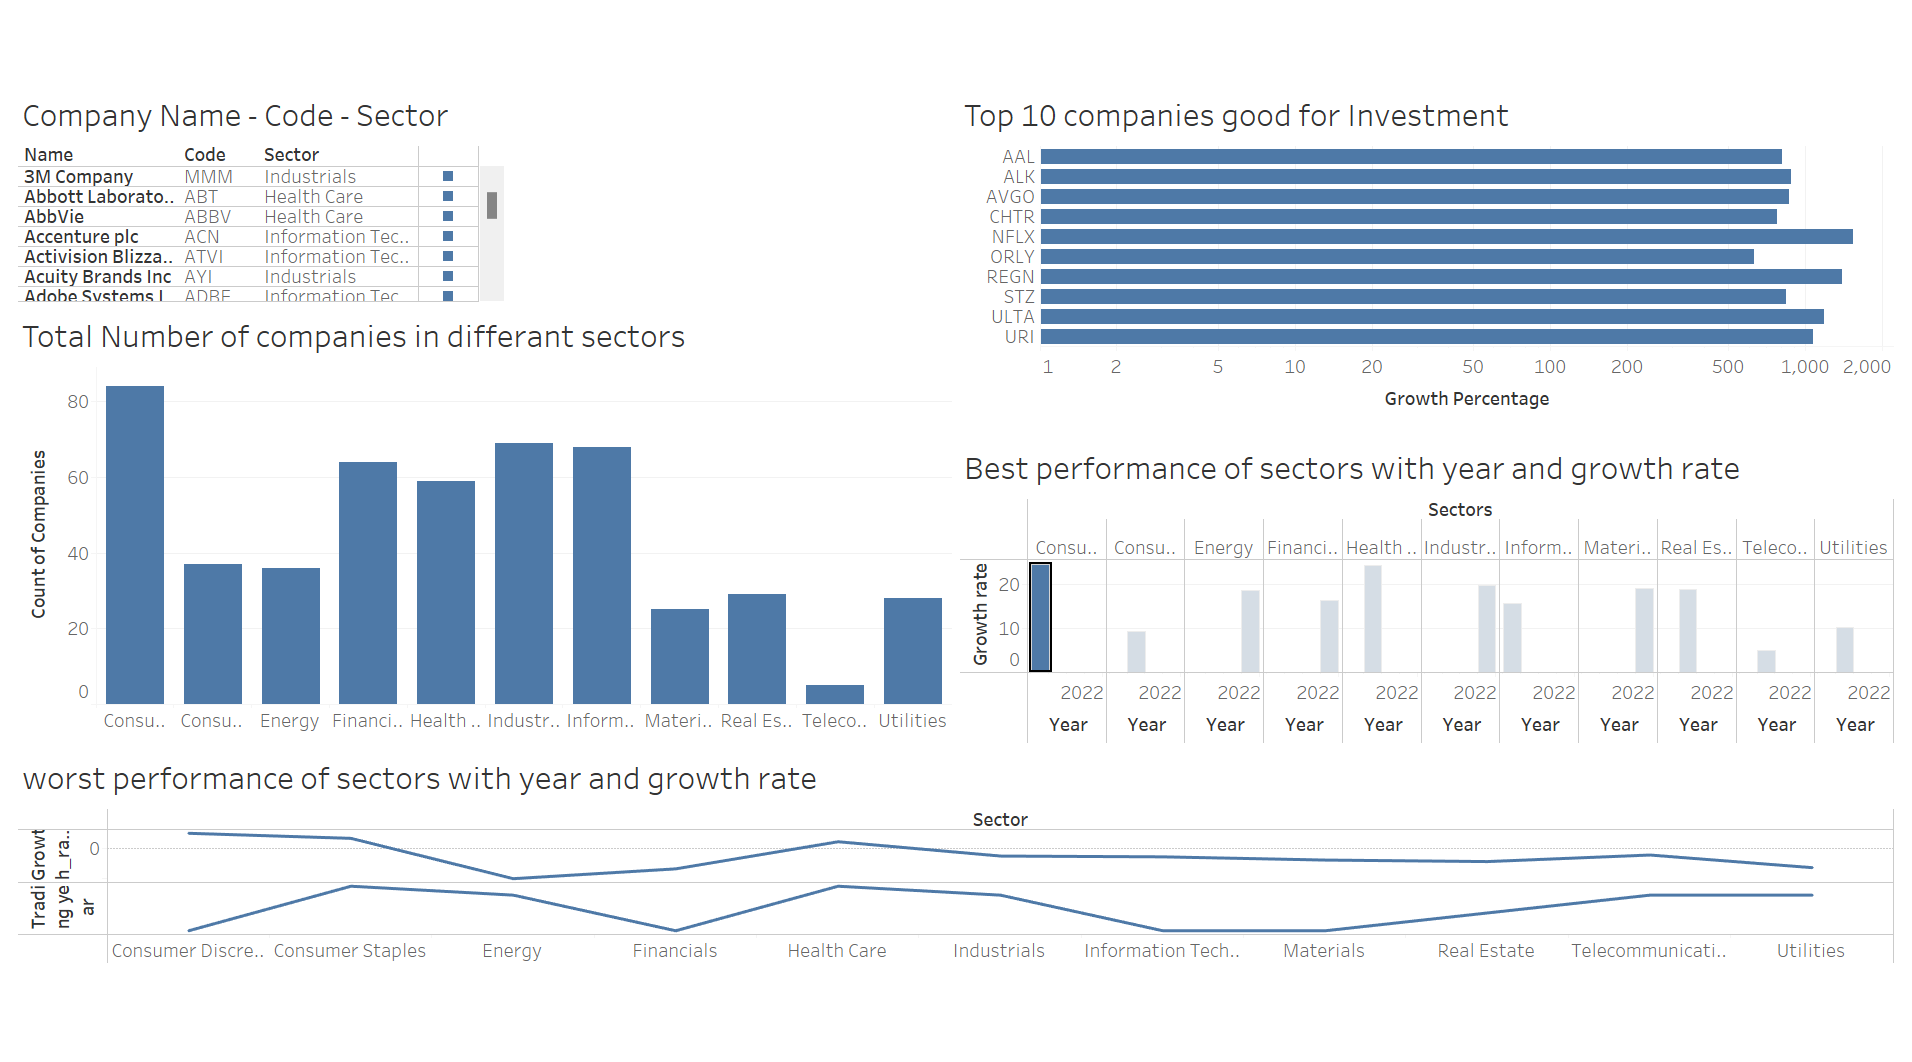

The dashboard page shown, as its layout file describes it:
{"tool":"tableau","page":{"name":"Dashboard View","canvas":[1900,900],"ordinal":0},"visuals":[{"type":"worksheet","title":"comp_details","mark":"Square","rows":["Name","Code","Sector"],"box":[8,8,942,221]},{"type":"worksheet","title":"overall growth","mark":"Automatic","rows":["F1"],"cols":["F2"],"box":[950,8,942,353]},{"type":"worksheet","title":"Count of companies in differant sectors","mark":"Automatic","rows":["Name"],"cols":["Sector"],"box":[8,229,942,442]},{"type":"worksheet","title":"Best performance of sectors","mark":"Bar","rows":["F3"],"cols":["F1","F2"],"box":[950,361,942,310]},{"type":"worksheet","title":"worst performance of sectors","mark":"Line","rows":["F3","F2"],"cols":["F1"],"box":[8,671,1884,221]}]}

Visuals, with their boxes on the page's 1900x900 design canvas (x1, y1, x2, y2). These are canvas units, not pixel positions in the 1912x1062 screenshot, which may show the page scaled, cropped or inside an application window:
"comp_details" worksheet (Square marks): 8 8 950 229
"overall growth" worksheet: 950 8 1892 361
"Count of companies in differant sectors" worksheet: 8 229 950 671
"Best performance of sectors" worksheet (Bar marks): 950 361 1892 671
"worst performance of sectors" worksheet (Line marks): 8 671 1892 892
